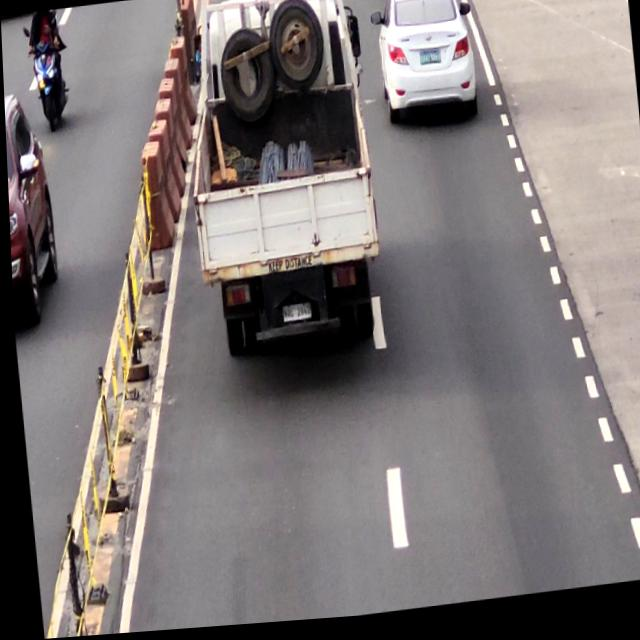Car: (371, 0, 477, 129)
License-Plate: (277, 305, 312, 331)
Truck: (183, 0, 378, 366)
